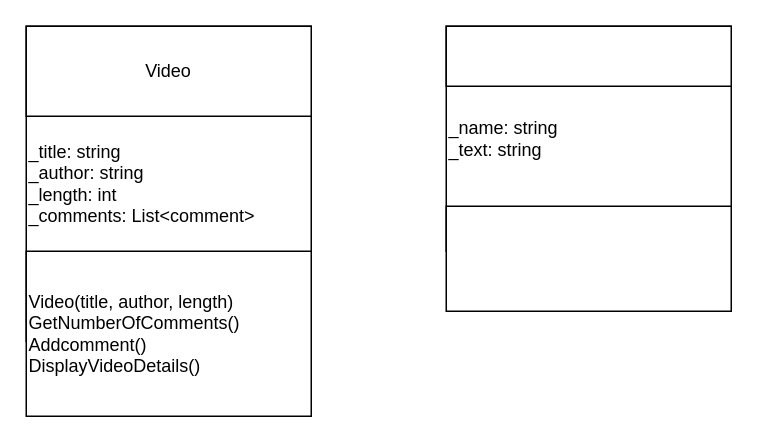
Some shapes in this 758 by 443 pixel diagram are drawn without their labels. Each missing label, with the centre of its shape:
"Comment" belongs at point (588, 55).
"Comment() DisplayCommentDetails()" belongs at point (588, 258).
